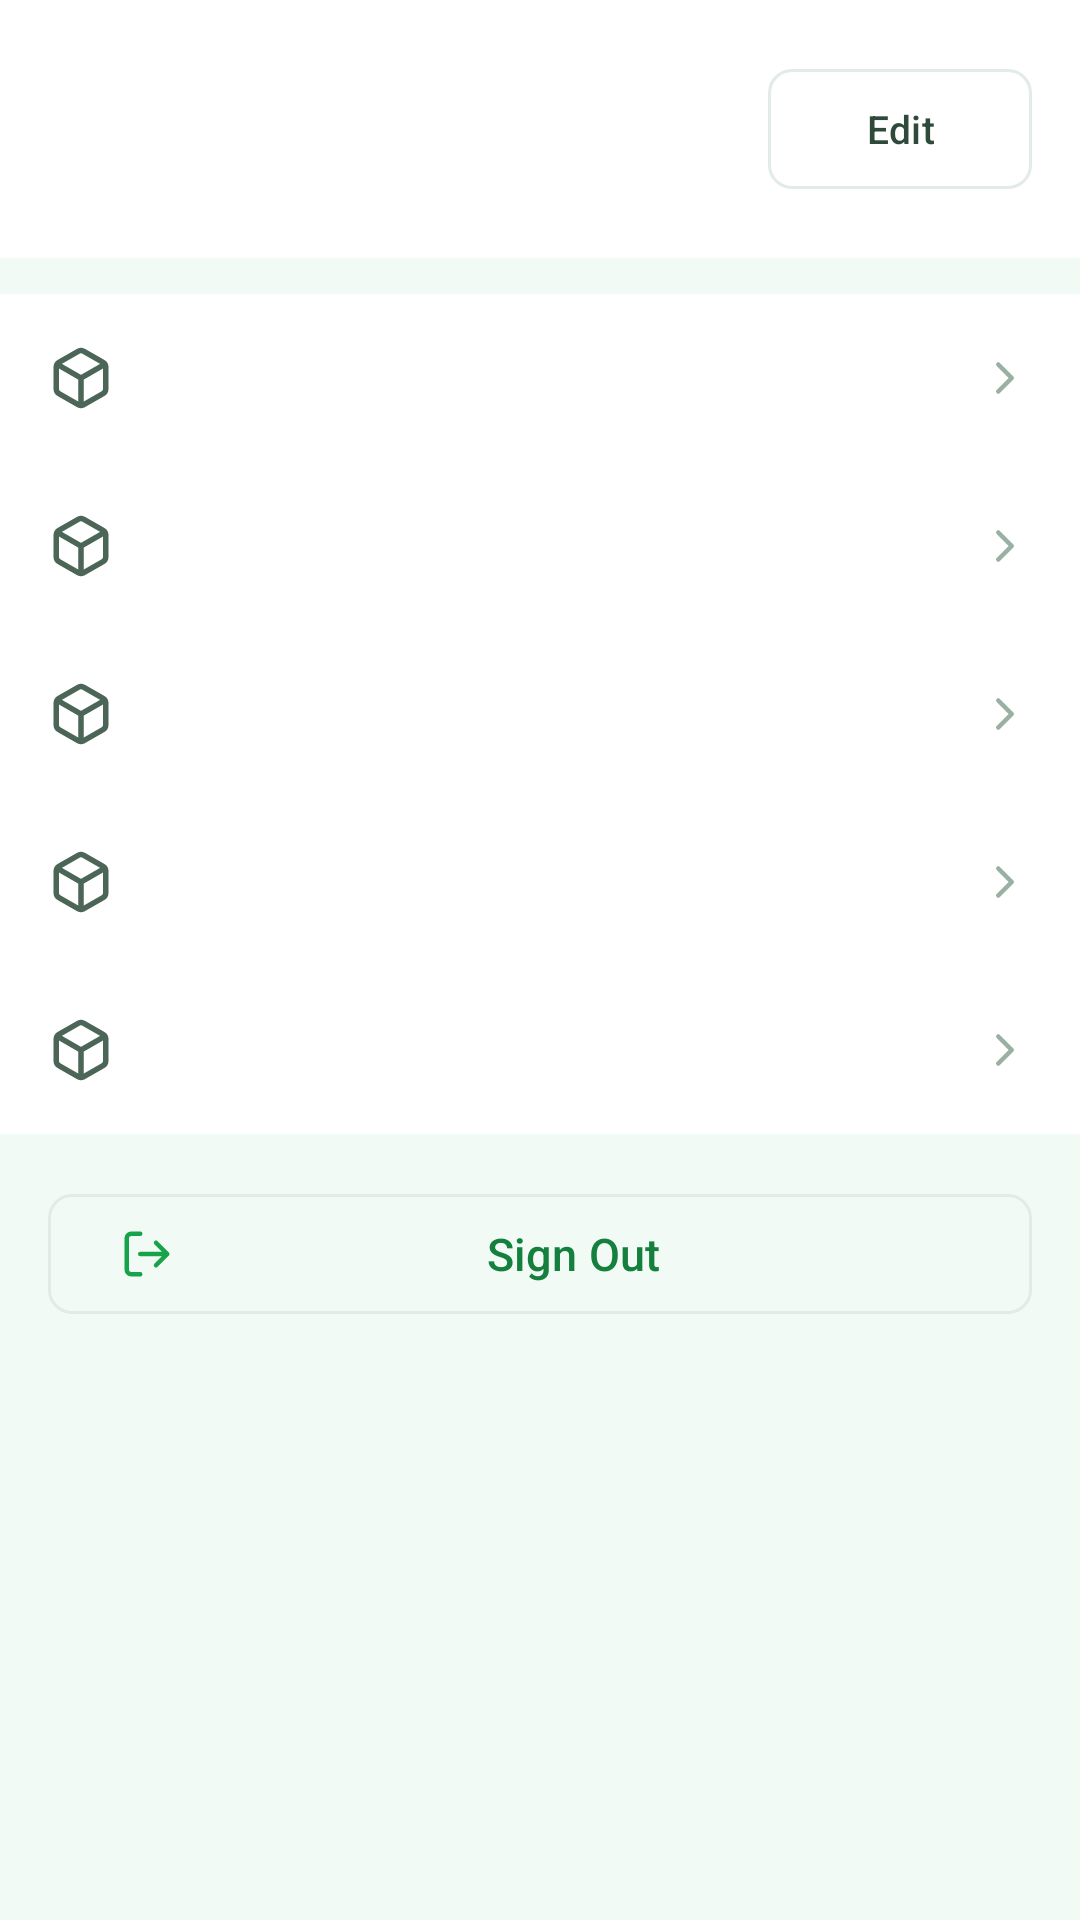

Screen size 1080*1920. Icon name, then its center in pixels as point (x, y):
chevron right: point (1005, 378), point (1005, 546), point (1005, 714), point (1005, 882), point (1005, 1050)
package: point (81, 378), point (81, 546), point (81, 714), point (81, 882), point (81, 1050)
